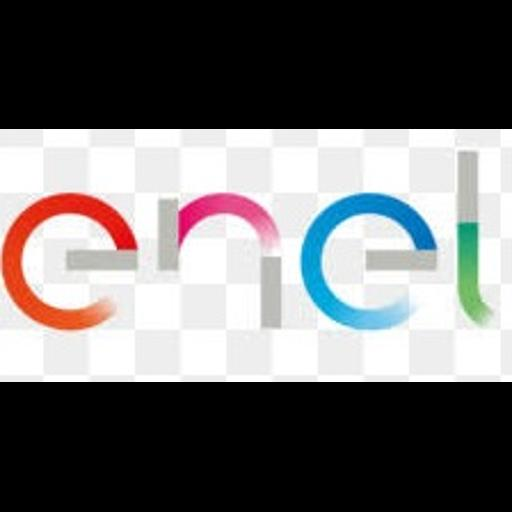Enel Energia S-p-A: (0, 129, 512, 382)
